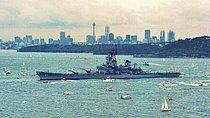MIL_Ship: (35, 44, 182, 80)
